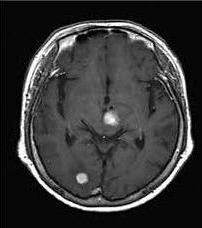Normal_Brain: (11, 9, 202, 228)
